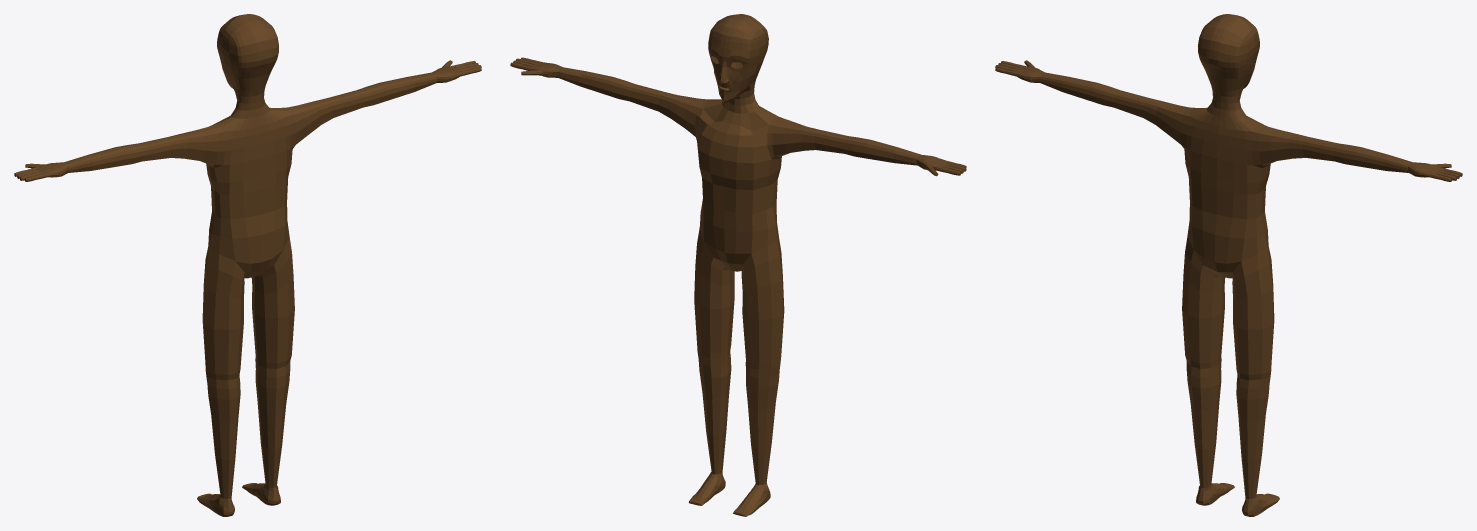
Rendered from personaje.obj.
3 renders of one model, left to right at view 1: azimuth 30°, elevation 25°; view 2: azimuth 150°, elevation 25°; view 3: azimuth 330°, elevation 25°, orthographic. The views are drawn at different scales.
Visible parts, largest first — view 1: Plane_Plane.002; view 2: Plane_Plane.002; view 3: Plane_Plane.002.
Part boxes in pixels (<box>): Plane_Plane.002: <box>14,14,481,516</box>; Plane_Plane.002: <box>510,14,966,516</box>; Plane_Plane.002: <box>995,14,1462,516</box>.
Size of the model in its own units: 6.92 by 7.05 by 0.9805.
